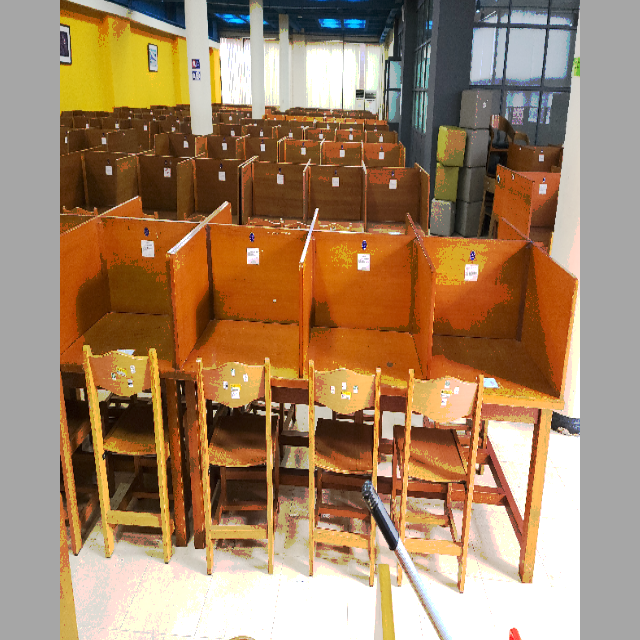empty: (442, 250, 576, 454), (307, 238, 434, 451), (180, 236, 301, 452)
